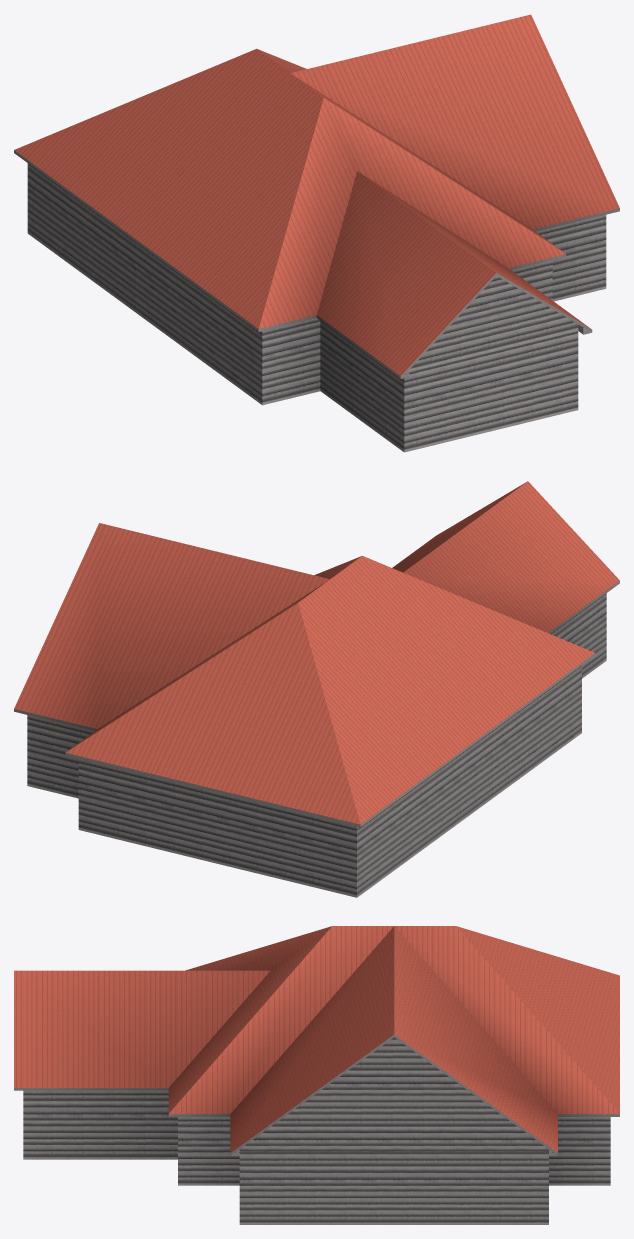
The model's file is house_024.glb.
3 views of the same model, one above another, from view 1: azimuth 30°, elevation 25°; view 2: azimuth 150°, elevation 25°; view 3: azimuth 270°, elevation 25° (orthographic). The views are drawn at different scales.
Parts seen in each view (by area): view 1: Export; view 2: Export; view 3: Export.
Part boxes in pixels (x1,y1,x2,y2): Export: [14, 14, 619, 452]; Export: [14, 481, 619, 897]; Export: [14, 926, 619, 1224].
Bounding box in the file's own units: 13.6 × 6.94 × 19.6.
3 materials, 3 textured.
